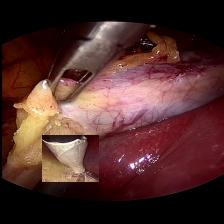Grasper: (38, 22, 146, 106)
Hook: (41, 135, 98, 182)
